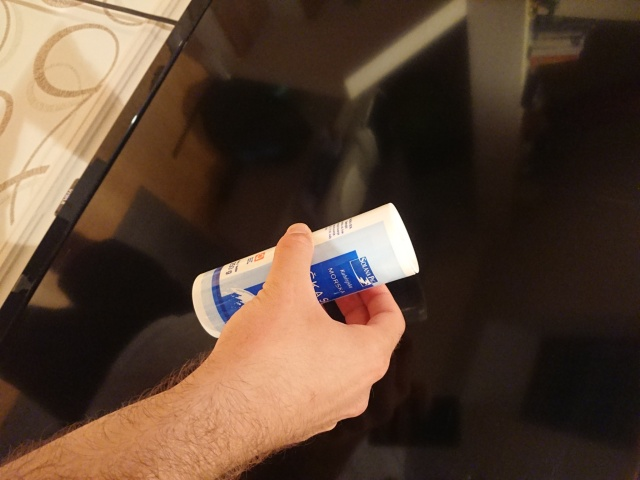Solana Pag Fine Sea Salt 250g: (187, 197, 427, 343)
